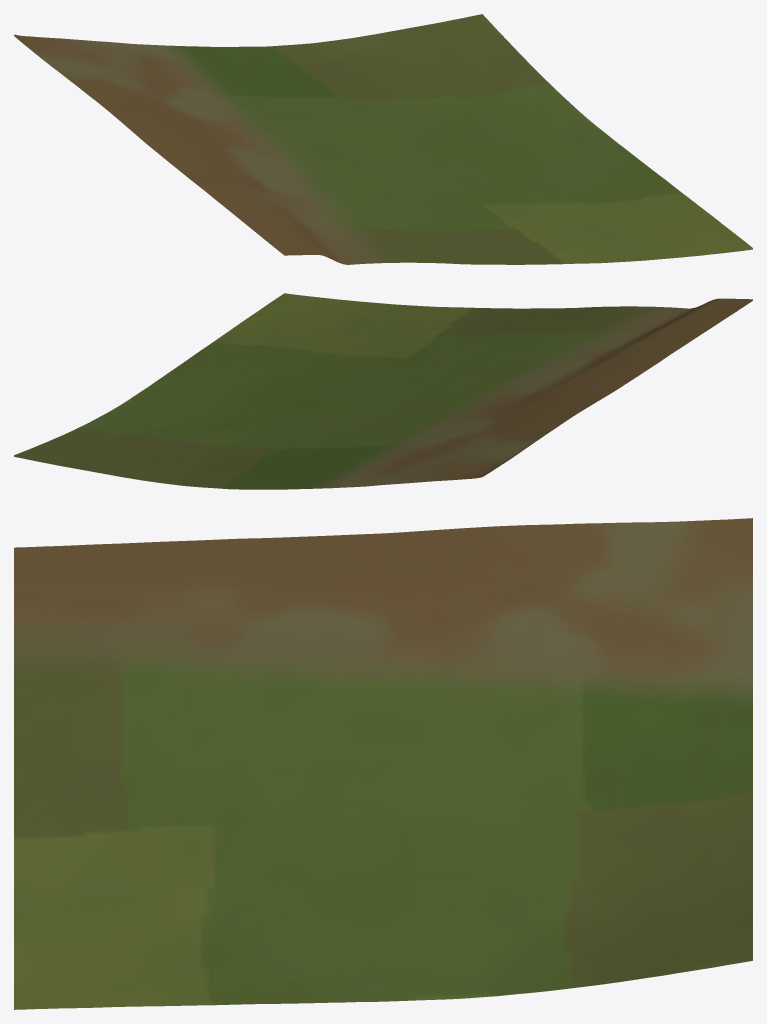
The model's file is land_n_00_01.glb.
The picture shows the model from 3 angles, top to bottom: view 1: azimuth 30°, elevation 25°; view 2: azimuth 150°, elevation 25°; view 3: azimuth 270°, elevation 25°; orthographic projection. The views are drawn at different scales.
Visible parts, largest first — view 1: land_n_00_01; view 2: land_n_00_01; view 3: land_n_00_01.
Boxes of the visible parts, x1=… form: land_n_00_01: x1=14, y1=14, x2=752, y2=264; land_n_00_01: x1=14, y1=293, x2=752, y2=489; land_n_00_01: x1=14, y1=518, x2=752, y2=1009.
Bounding box in the file's own units: 480 × 129 × 480.
